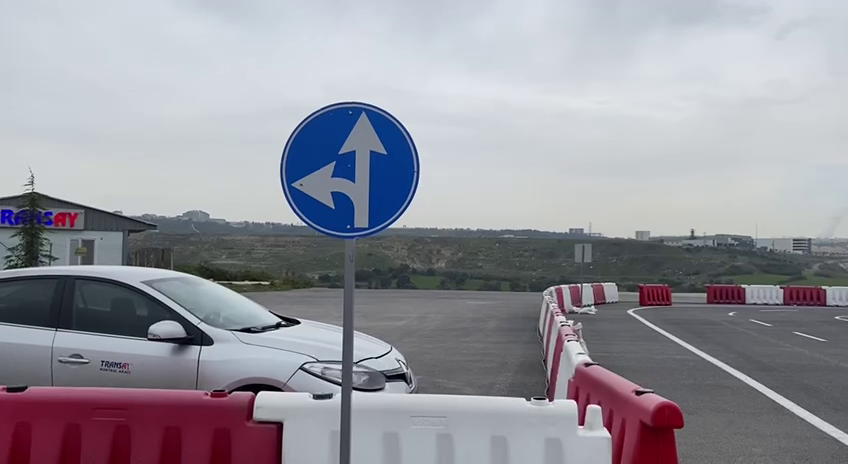forwardAndLeft: (278, 99, 422, 243)
